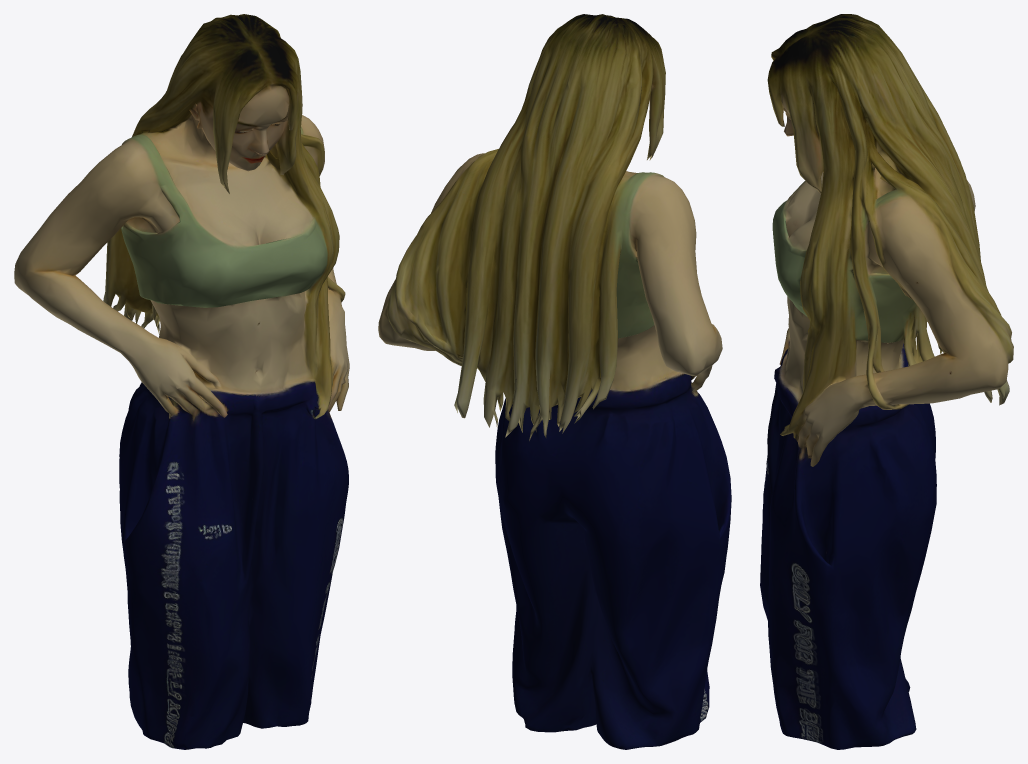
The model's file is c8e0a4e6-2e42-4fbf-9031-1482cf1cc580.glb.
3 renders of one model, left to right at view 1: azimuth 30°, elevation 25°; view 2: azimuth 150°, elevation 25°; view 3: azimuth 270°, elevation 25°, orthographic.
Parts seen in each view (by area): view 1: tripo_node_c8e0a4e6-2e42-4fbf-9031-1482cf1cc580; view 2: tripo_node_c8e0a4e6-2e42-4fbf-9031-1482cf1cc580; view 3: tripo_node_c8e0a4e6-2e42-4fbf-9031-1482cf1cc580.
Boxes of the visible parts, x1=… form: tripo_node_c8e0a4e6-2e42-4fbf-9031-1482cf1cc580: x1=14, y1=14, x2=349, y2=749; tripo_node_c8e0a4e6-2e42-4fbf-9031-1482cf1cc580: x1=378, y1=14, x2=731, y2=749; tripo_node_c8e0a4e6-2e42-4fbf-9031-1482cf1cc580: x1=760, y1=14, x2=1013, y2=749.
Size of the model in its own units: 0.4678 by 1 by 0.3298.
Materials: 1 (1 with a texture image).
